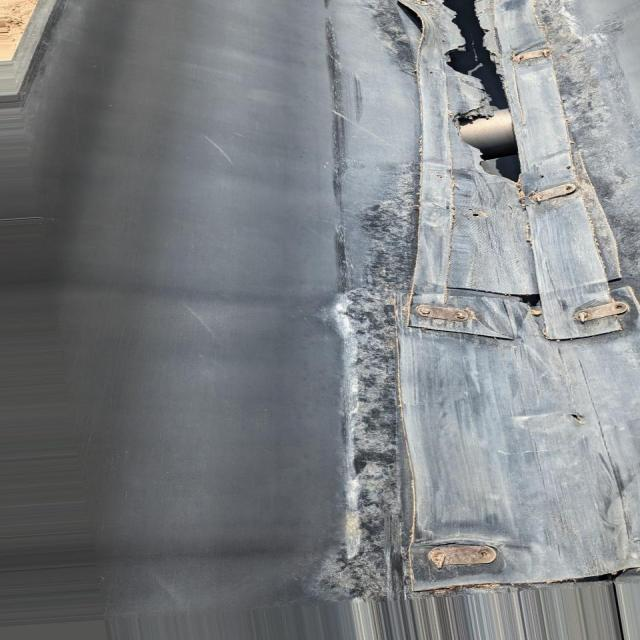Hole: (448, 0, 518, 180)
patch work: (393, 0, 638, 600)
